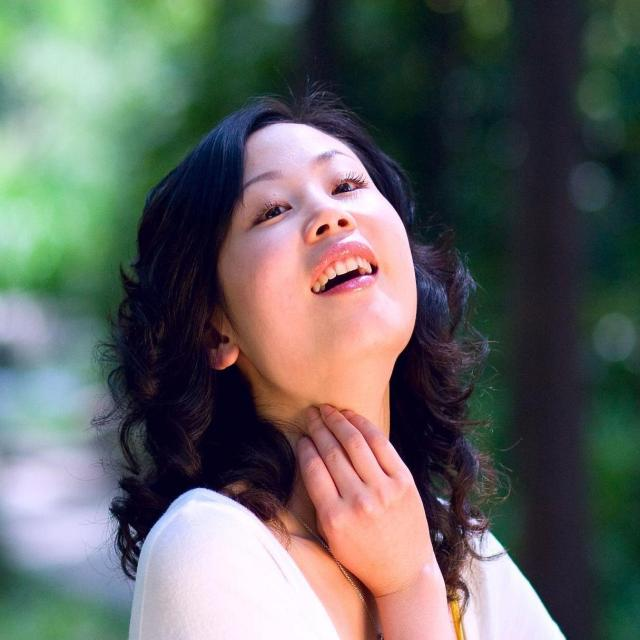no-glass: (248, 173, 365, 226)
